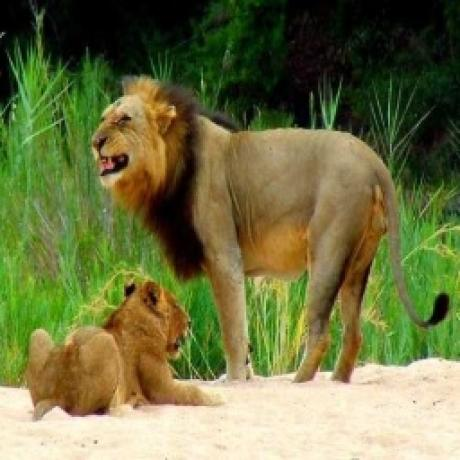Lion: (94, 74, 450, 386), (26, 276, 220, 422)
